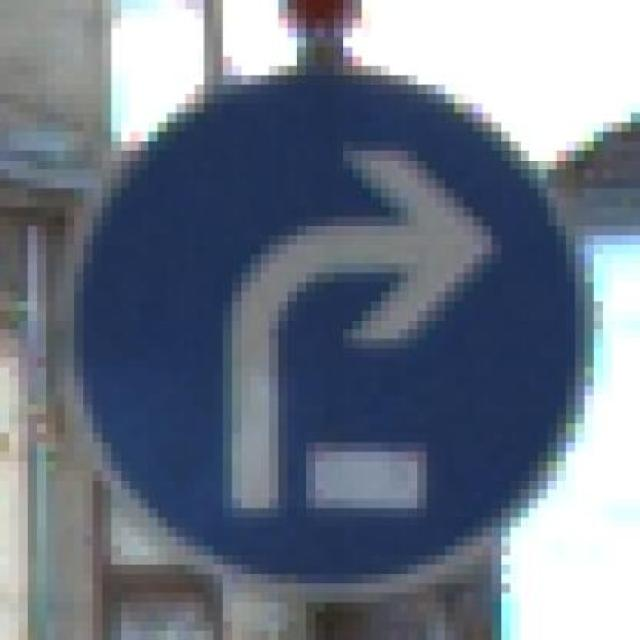Turn right ahead: (74, 47, 603, 602)
